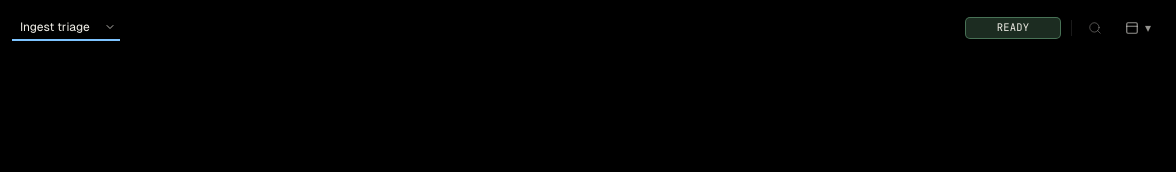
PanelTabStrip › session popup occlusion (regression: opened behind a docked panel) › the caret opens the popup from the chat tab
Click the button named "Switch chat" at (110, 27), box x1=100 y1=17 x2=120 y2=37
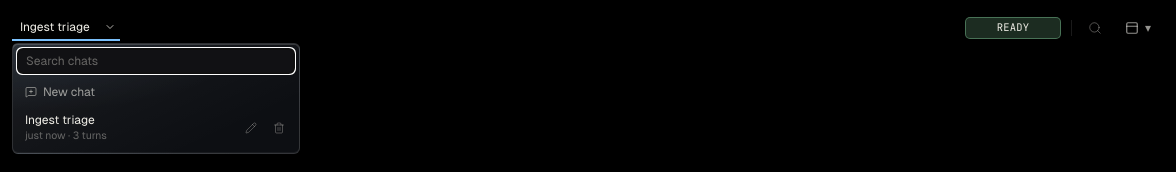
Now the element named "Sessions" is shown, box x1=12 y1=43 x2=300 y2=154
